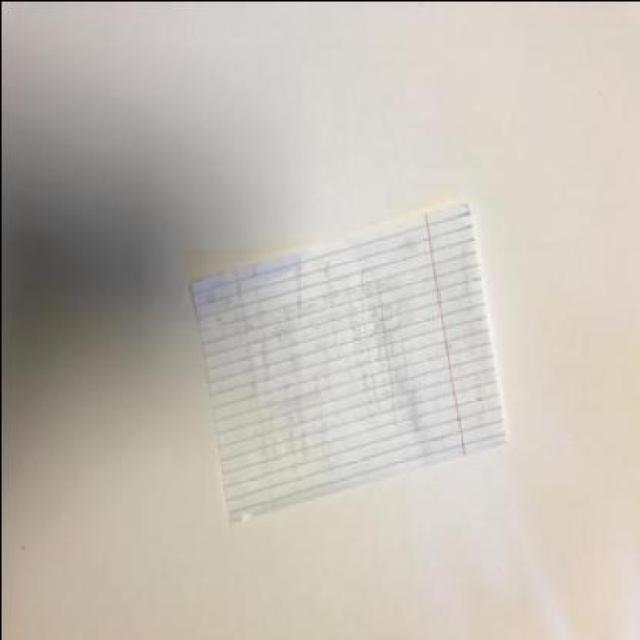PAPER: (190, 203, 507, 523)
